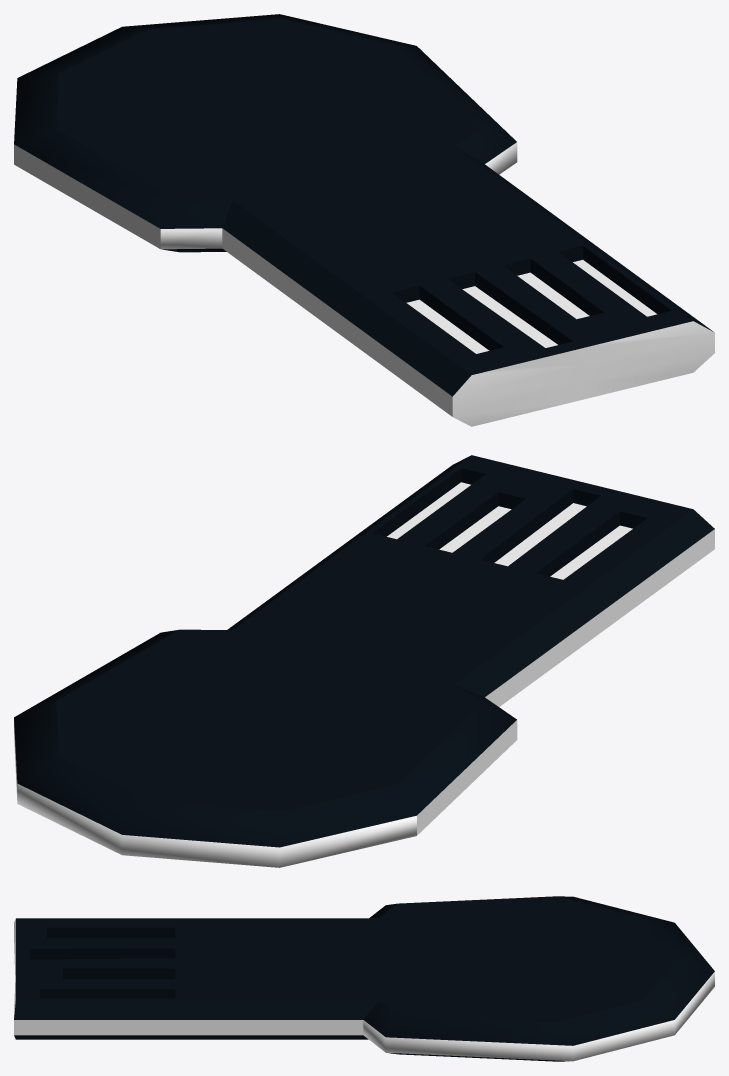
File: Game Key.FBX
3 renders of one model, top to bottom at view 1: azimuth 30°, elevation 25°; view 2: azimuth 150°, elevation 25°; view 3: azimuth 270°, elevation 25°, orthographic. The views are drawn at different scales.
Parts seen in each view (by area): view 1: Box001; view 2: Box001; view 3: Box001.
Boxes of the visible parts, x1,y1,x2,y2 form: Box001: (14,14,714,426); Box001: (14,455,714,867); Box001: (14,896,714,1061).
Bounding box in the file's own units: 51.9 × 6.36 × 103.
